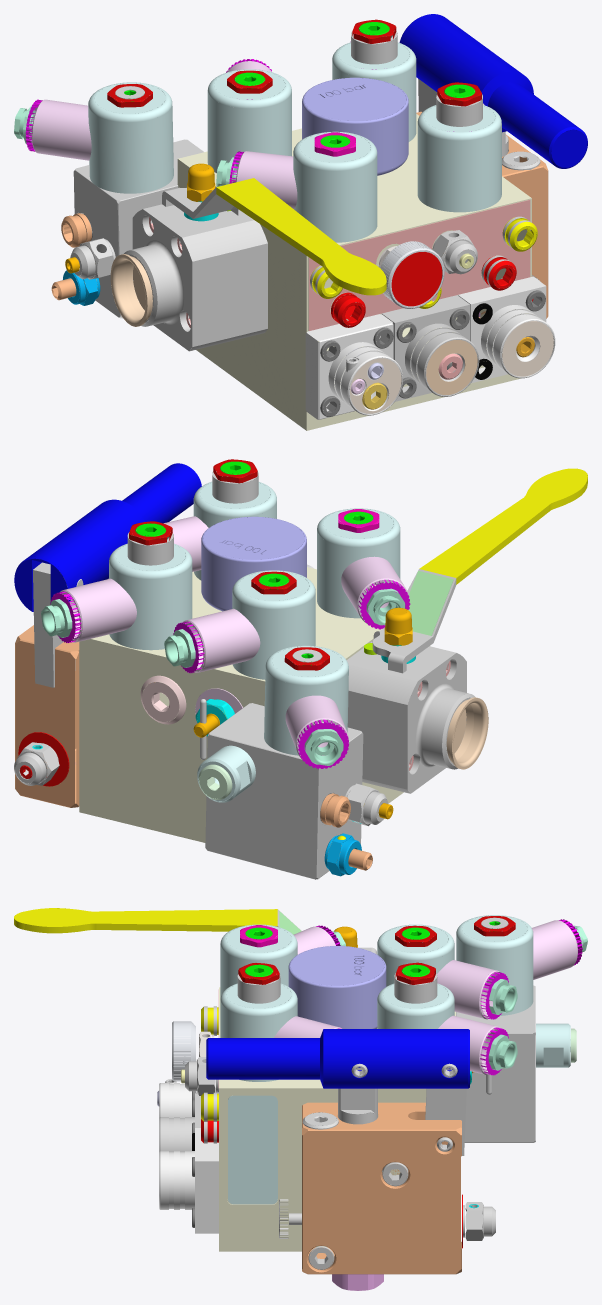
3 views of the same model, one above another, from view 1: azimuth 30°, elevation 25°; view 2: azimuth 150°, elevation 25°; view 3: azimuth 270°, elevation 25° (orthographic). The views are drawn at different scales.
Visible parts, largest first — view 1: EV100_3_4 (1); view 2: EV100_3_4 (1); view 3: EV100_3_4 (1).
Boxes of the visible parts, x1=… form: EV100_3_4 (1): x1=14, y1=14, x2=587, y2=430; EV100_3_4 (1): x1=14, y1=459, x2=587, y2=879; EV100_3_4 (1): x1=14, y1=908, x2=587, y2=1290.
Size of the model in its own units: 0.2103 by 0.1514 by 0.2873.
